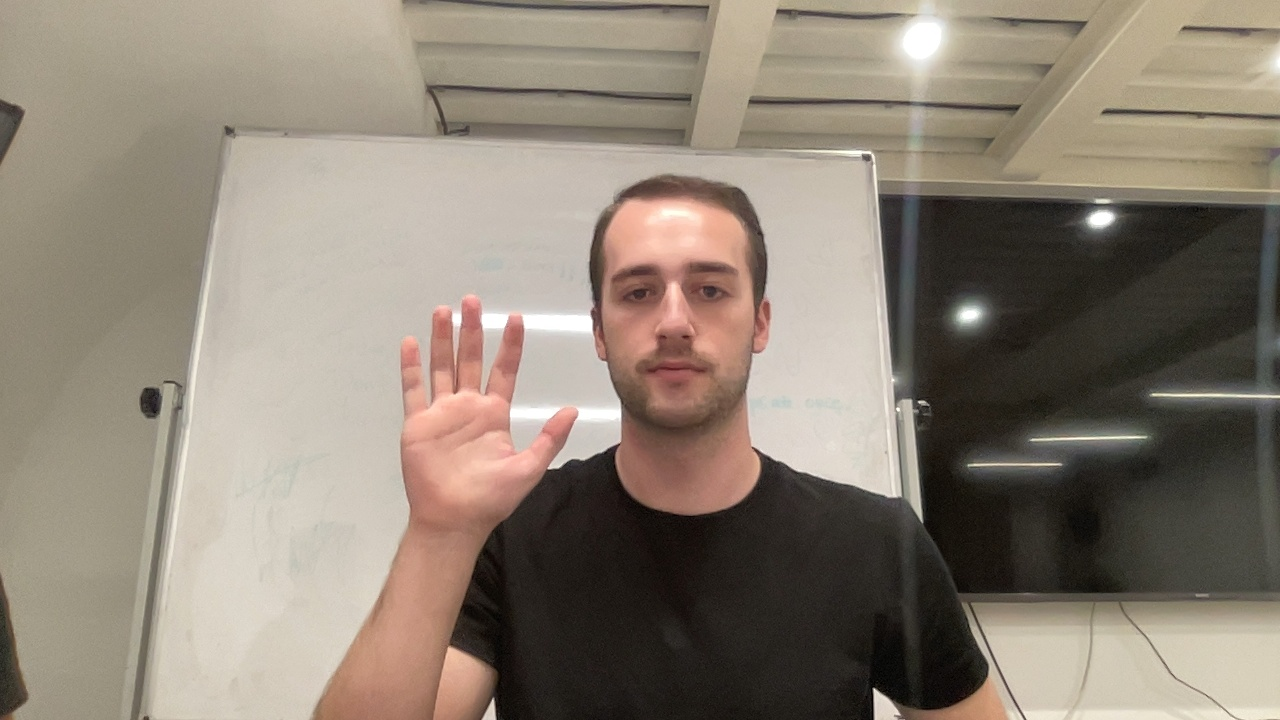Hello: (393, 287, 585, 543)
